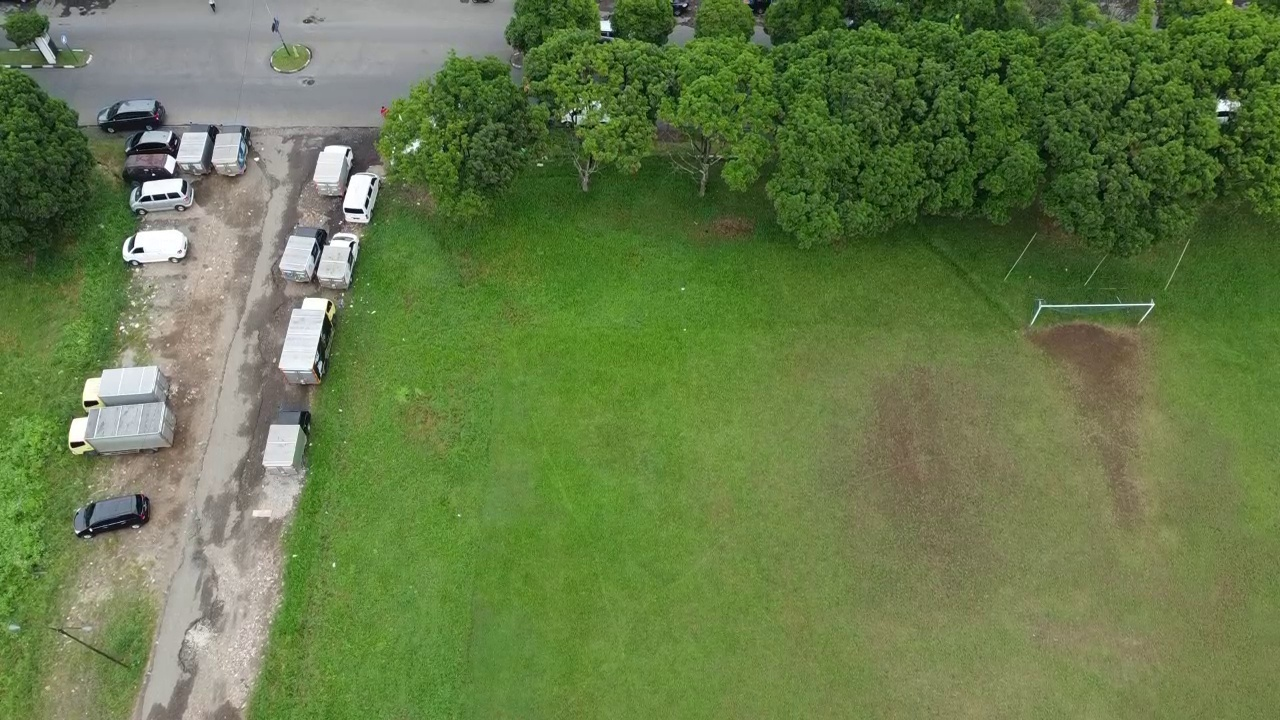mobil: (73, 491, 152, 539), (95, 91, 169, 134), (118, 229, 195, 266), (125, 177, 201, 212), (339, 169, 382, 228), (117, 150, 181, 181), (122, 128, 182, 160)
